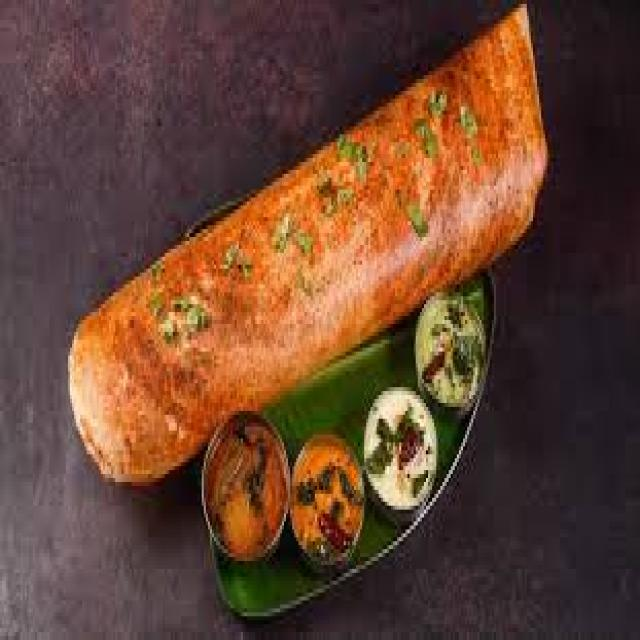DOSA: (66, 0, 548, 482)
